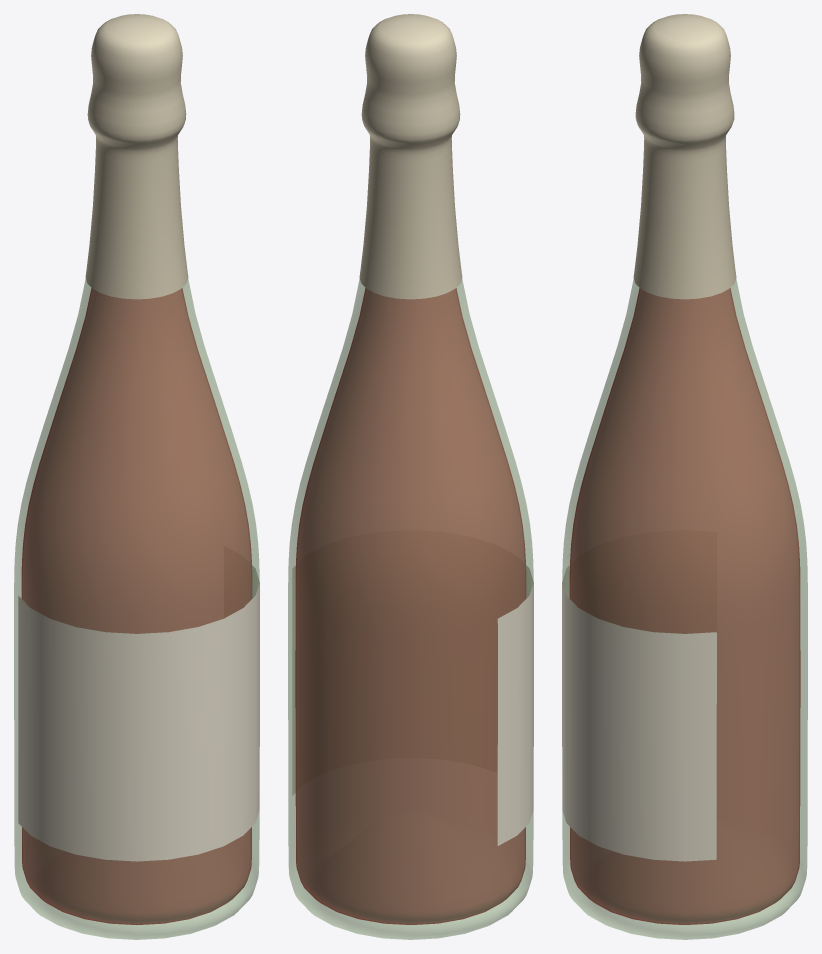
The model's file is elegant_glass_bottle.fbx.
3 renders of one model, left to right at view 1: azimuth 30°, elevation 25°; view 2: azimuth 150°, elevation 25°; view 3: azimuth 270°, elevation 25°, orthographic.
Visible parts, largest first — view 1: elegant_glass_bottle_visual; view 2: elegant_glass_bottle_visual; view 3: elegant_glass_bottle_visual.
Boxes of the visible parts, x1,y1,x2,y2 form: elegant_glass_bottle_visual: (14, 14, 259, 939); elegant_glass_bottle_visual: (288, 14, 533, 939); elegant_glass_bottle_visual: (562, 14, 807, 939).
Size of the model in its own units: 8.06 by 31.55 by 8.06.
